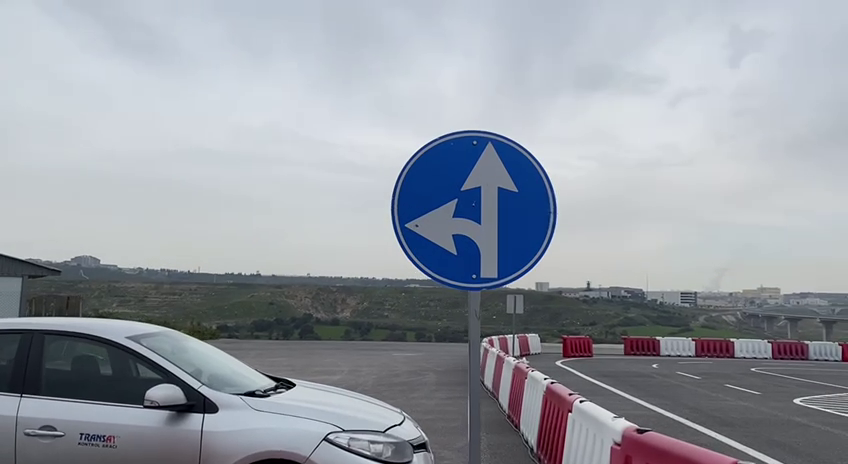forwardAndLeft: (383, 123, 562, 296)
